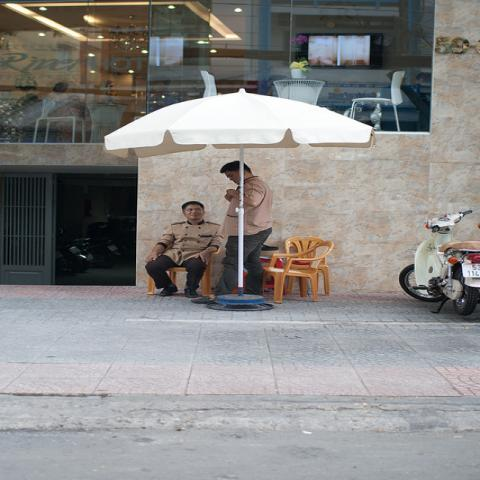motorcycle: (399, 210, 479, 316)
